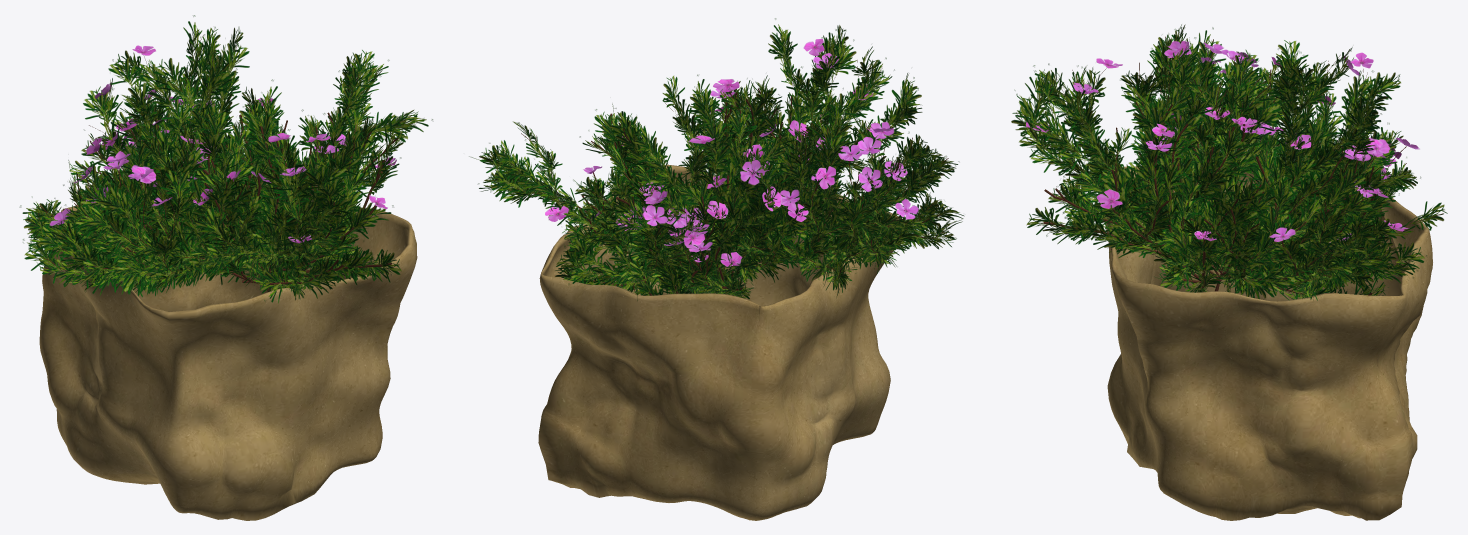
The model's file is PaperPotFlower-transformed.glb.
The picture shows the model from 3 angles, left to right: view 1: azimuth 30°, elevation 25°; view 2: azimuth 150°, elevation 25°; view 3: azimuth 270°, elevation 25°; orthographic projection. The views are drawn at different scales.
Parts seen in each view (by area): view 1: Cube, phlox; view 2: Cube, phlox; view 3: phlox, Cube.
Boxes of the visible parts, x1,y1,x2,y2 form: Cube: (39,176,417,520); phlox: (19,15,432,303); Cube: (538,164,900,520); phlox: (469,18,964,301); phlox: (1011,24,1447,300); Cube: (1105,166,1432,520).
Size of the model in its own units: 0.5462 by 0.4956 by 0.4715.
4 materials, 3 textured.
